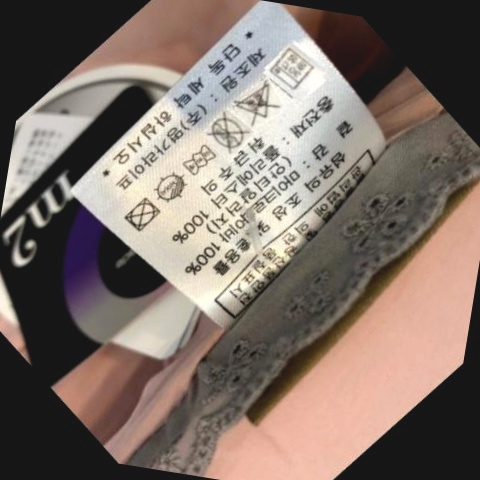30C: (266, 46, 321, 94)
DN_dry_clean: (203, 112, 257, 155)
DN_tumble_dry: (124, 195, 163, 234)
dry_flat_in_shade: (148, 164, 195, 205)
non_chlorine_bleach: (233, 81, 285, 127)
wring: (178, 140, 224, 183)
